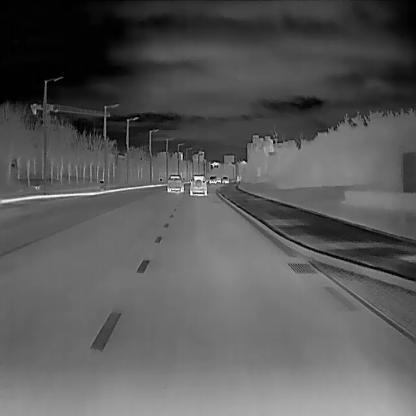car: (188, 173, 206, 196), (166, 174, 184, 192), (209, 174, 216, 184), (222, 175, 228, 183), (216, 177, 220, 183)
